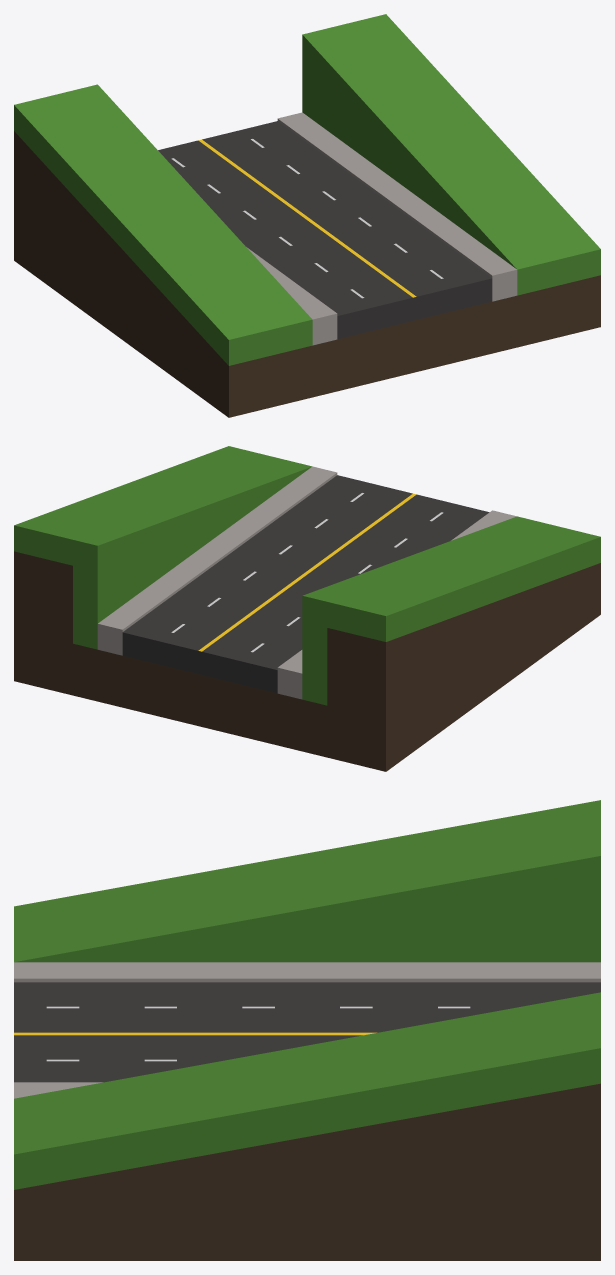
File: tile-mainroad-tunnel-entrance.glb
3 renders of one model, top to bottom at view 1: azimuth 30°, elevation 25°; view 2: azimuth 150°, elevation 25°; view 3: azimuth 270°, elevation 25°, orthographic. The views are drawn at different scales.
Parts seen in each view (by area): view 1: tile-mainroad-tunnel-entrance; view 2: tile-mainroad-tunnel-entrance; view 3: tile-mainroad-tunnel-entrance.
Part boxes in pixels (left/top/right/bottom): tile-mainroad-tunnel-entrance: left=14, top=14, right=600, bottom=417; tile-mainroad-tunnel-entrance: left=14, top=446, right=600, bottom=771; tile-mainroad-tunnel-entrance: left=14, top=800, right=600, bottom=1260.
Bounding box in the file's own units: 30 × 12 × 30.
Materials: 1 (1 with a texture image).
